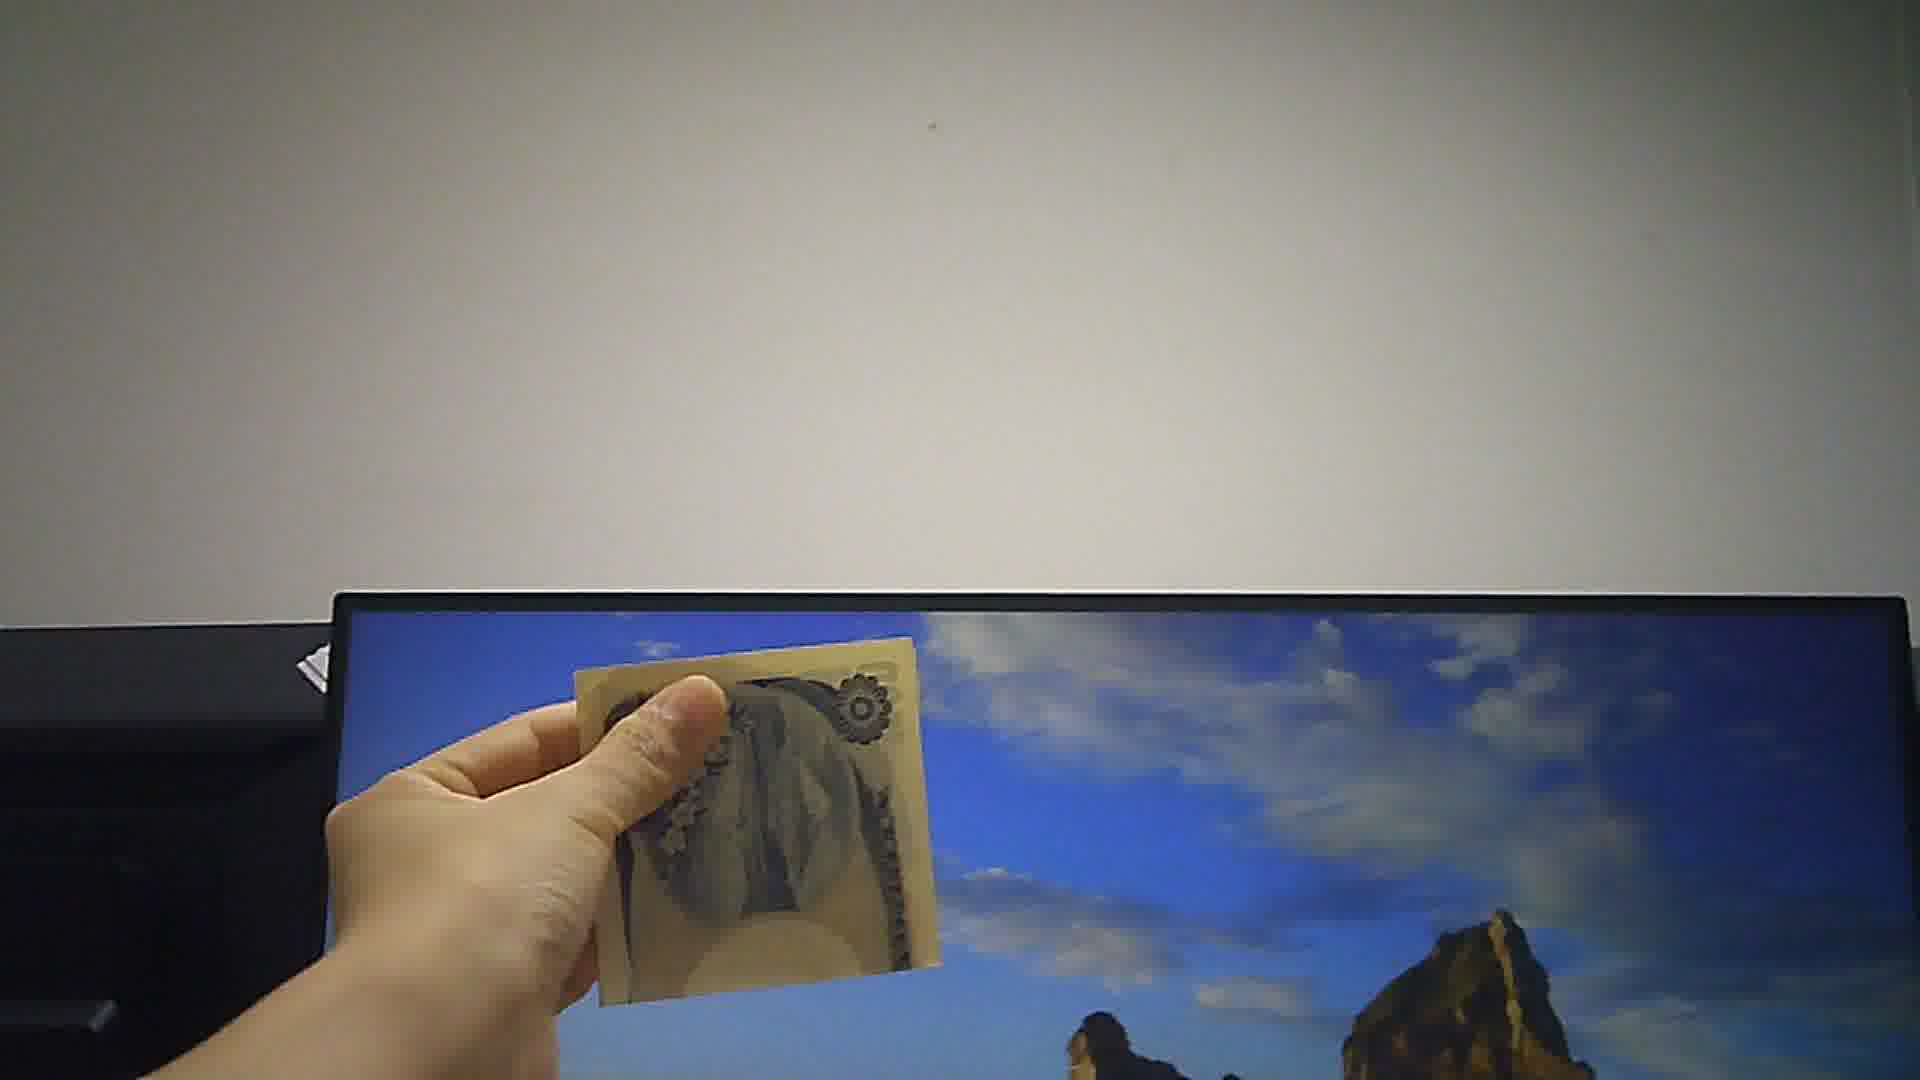1,000 Yen: (564, 640, 942, 1015)
